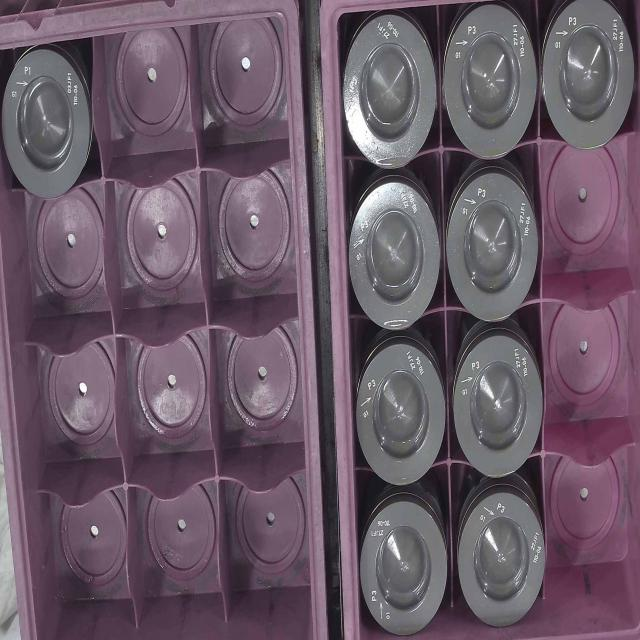P1: (3, 52, 92, 196)
P3: (344, 12, 436, 169), (444, 9, 538, 162), (348, 180, 440, 335), (448, 172, 538, 326), (542, 1, 636, 142), (452, 339, 544, 483), (357, 346, 447, 492), (358, 505, 449, 636), (458, 495, 544, 633)
